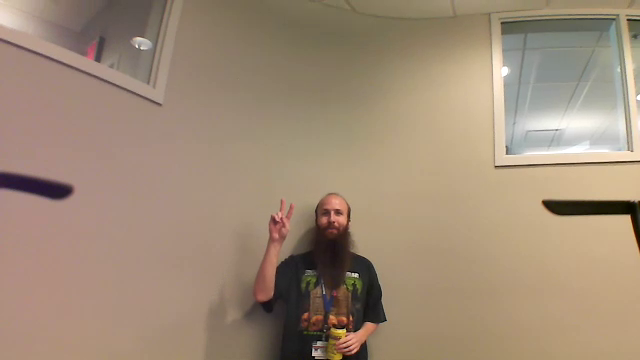peace: (263, 194, 299, 247)
